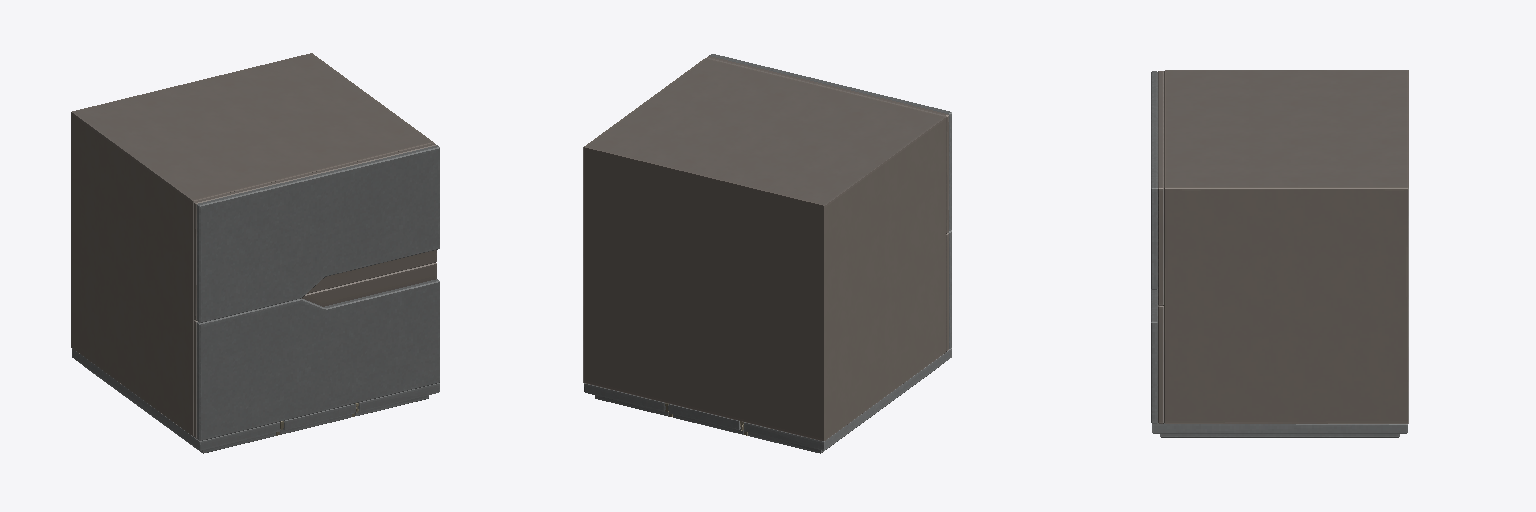
3 views of the same model, side by side, from view 1: azimuth 30°, elevation 25°; view 2: azimuth 150°, elevation 25°; view 3: azimuth 270°, elevation 25° (orthographic).
Visible parts, largest first — view 1: solid_001, solid_002; view 2: solid_001, solid_002; view 3: solid_001, solid_002.
Part boxes in pixels (bbox=[...]): solid_001: bbox=[71, 53, 436, 438]; solid_002: bbox=[72, 145, 439, 453]; solid_001: bbox=[583, 56, 948, 440]; solid_002: bbox=[584, 54, 951, 453]; solid_001: bbox=[1158, 70, 1408, 423]; solid_002: bbox=[1151, 71, 1407, 437].
Bounding box in the file's own units: 1.33 × 1.33 × 1.23.
1 materials, 1 textured.